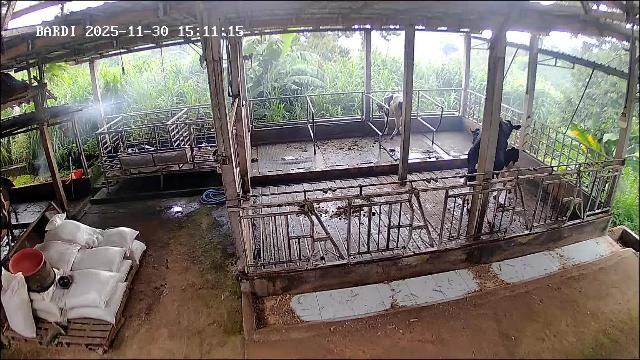mounting: (465, 118, 521, 215)
